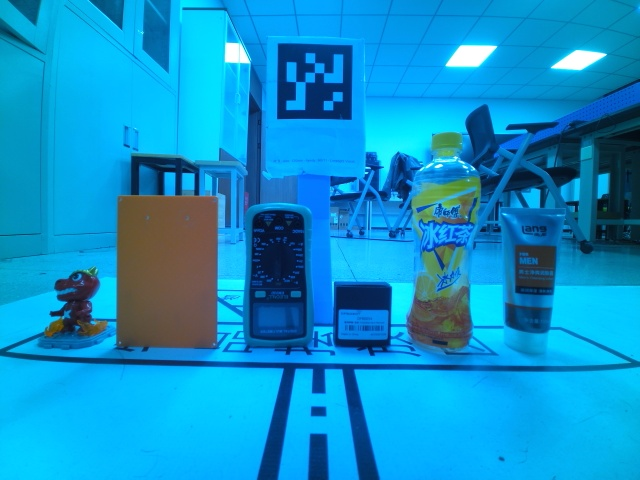banzi: (332, 280, 392, 349)
binghongcha: (38, 265, 112, 350)
dabao: (499, 205, 567, 360)
dianbiao: (405, 132, 481, 350)
hezi: (241, 201, 316, 348)
long: (115, 194, 220, 350)
